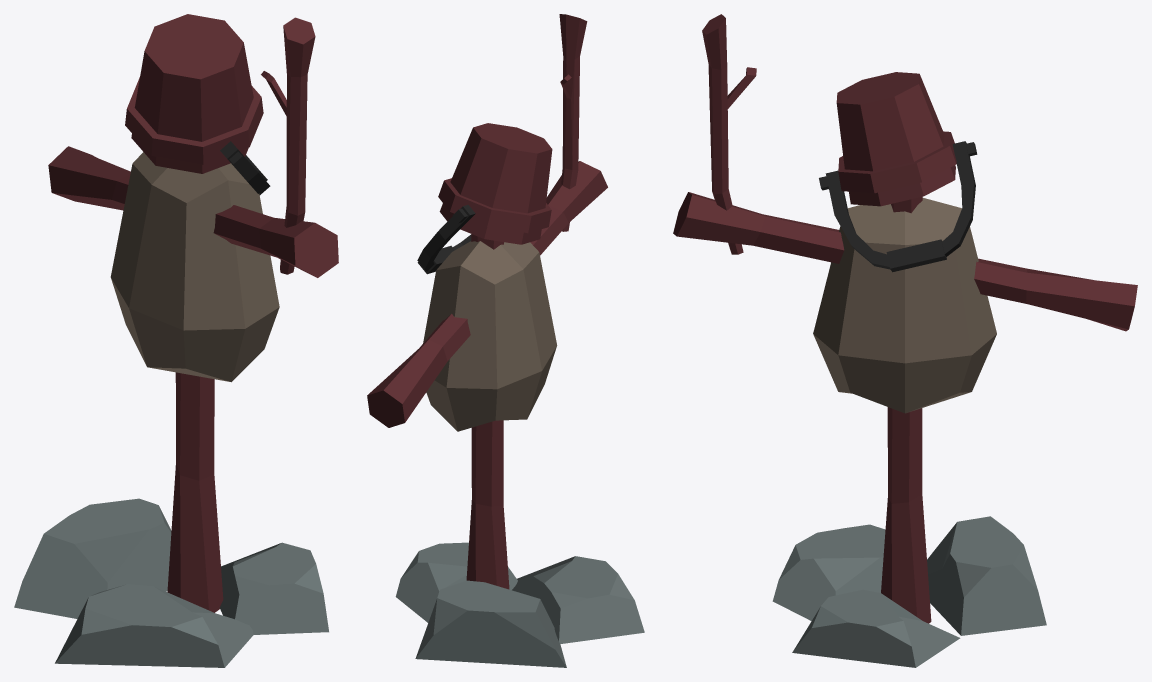
Rendered from Dummy.fbx.
The picture shows the model from 3 angles, left to right: view 1: azimuth 30°, elevation 25°; view 2: azimuth 150°, elevation 25°; view 3: azimuth 270°, elevation 25°; orthographic projection. The views are drawn at different scales.
Parts seen in each view (by area): view 1: Cube.001, Cylinder, Cube.002, Cube.004, Cylinder.001, Cylinder.002, Cube.003, Cylinder.003, Cube; view 2: Cube.001, Cylinder, Cube.002, Cube.004, Cylinder.002, Cylinder.001, Cube.003, Cylinder.003, Cube; view 3: Cube.001, Cylinder, Cylinder.002, Cube.002, Cylinder.001, Cube.003, Cube.004, Cube, Cylinder.003.
Boxes of the visible parts, x1,y1,x2,y2 form: Cube.001: [110, 152, 279, 382]; Cylinder: [125, 14, 263, 173]; Cube.002: [14, 498, 171, 618]; Cube.004: [55, 584, 253, 667]; Cylinder.001: [167, 372, 223, 612]; Cylinder.002: [48, 146, 338, 277]; Cube.003: [219, 542, 328, 634]; Cylinder.003: [261, 17, 315, 274]; Cube: [220, 141, 270, 195]; Cube.001: [423, 241, 557, 431]; Cylinder: [438, 123, 552, 244]; Cube.002: [415, 580, 566, 667]; Cube.004: [512, 556, 644, 643]; Cylinder.002: [367, 161, 607, 427]; Cylinder.001: [466, 234, 509, 589]; Cube.003: [395, 542, 517, 622]; Cylinder.003: [559, 14, 587, 231]; Cube: [417, 204, 475, 274]; Cube.001: [813, 198, 996, 413]; Cylinder: [836, 72, 956, 206]; Cylinder.002: [673, 192, 1137, 331]; Cube.002: [927, 516, 1046, 635]; Cylinder.001: [881, 196, 931, 623]; Cube.003: [792, 589, 960, 667]; Cube.004: [772, 524, 885, 620]; Cube: [819, 141, 977, 272]; Cylinder.003: [702, 14, 756, 254].
Bounding box in the file's own units: 91.68 × 212 × 148.
